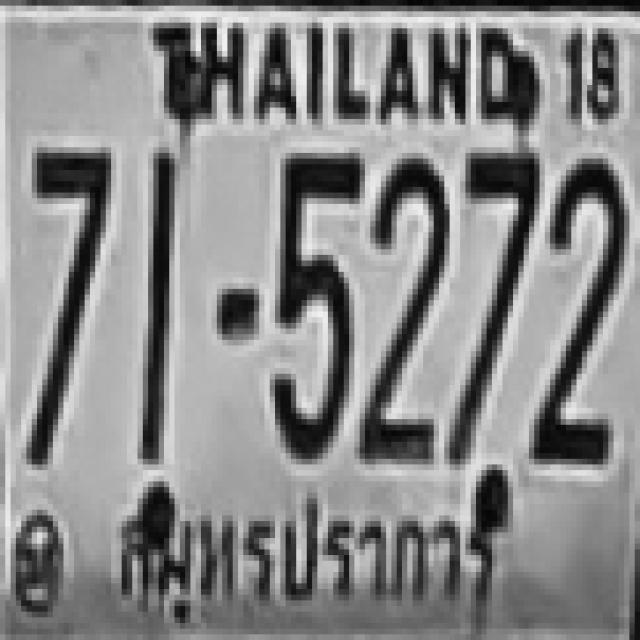0: (270, 255, 349, 459)
2: (354, 252, 434, 456), (529, 266, 608, 459)
7: (29, 147, 109, 340), (32, 147, 106, 323), (460, 147, 534, 317)
SamutPrakan: (98, 509, 504, 622)
